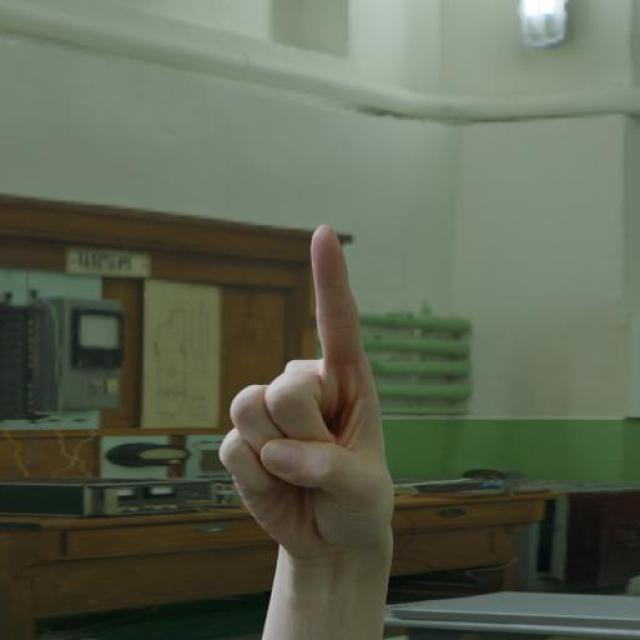Z: (196, 166, 430, 640)
